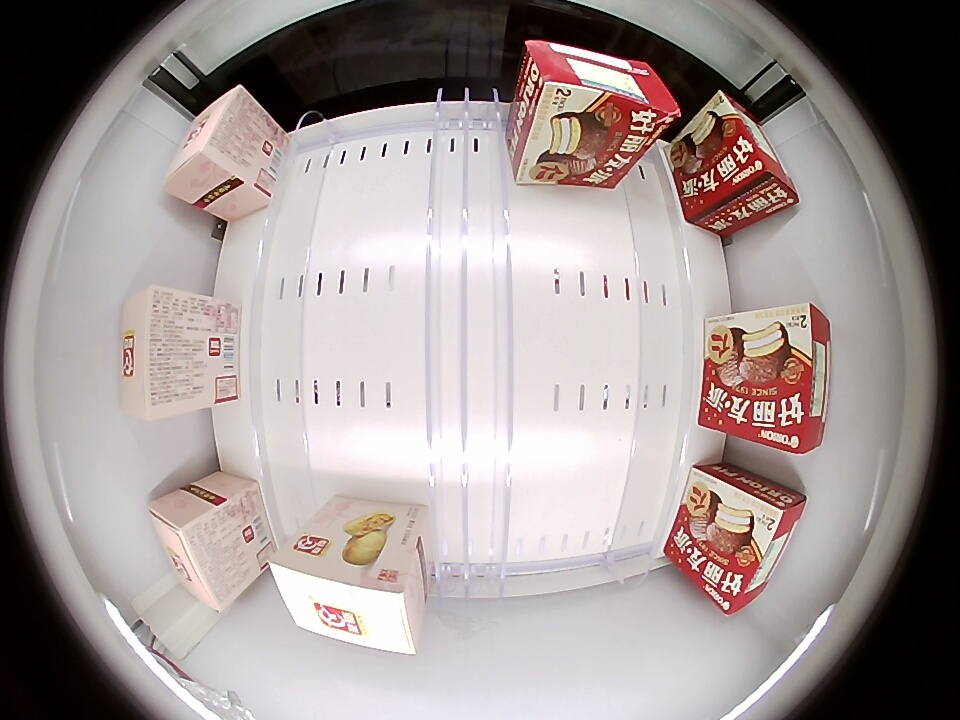haoliyou: (513, 42, 679, 173), (700, 478, 808, 615), (731, 304, 830, 453), (692, 91, 800, 215)
rousongbing: (268, 531, 426, 655), (163, 84, 266, 214), (149, 487, 245, 614), (122, 283, 205, 422)
